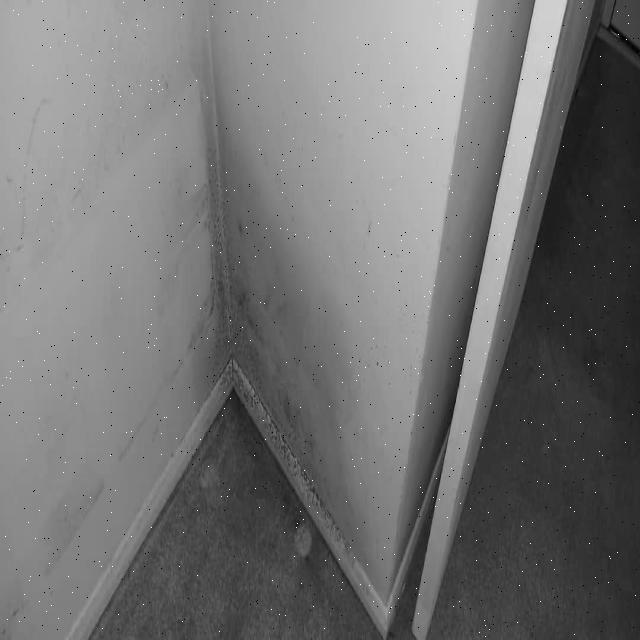stain marks: (175, 117, 378, 604), (34, 448, 108, 577), (183, 0, 245, 113), (112, 360, 172, 470), (0, 585, 28, 640)
